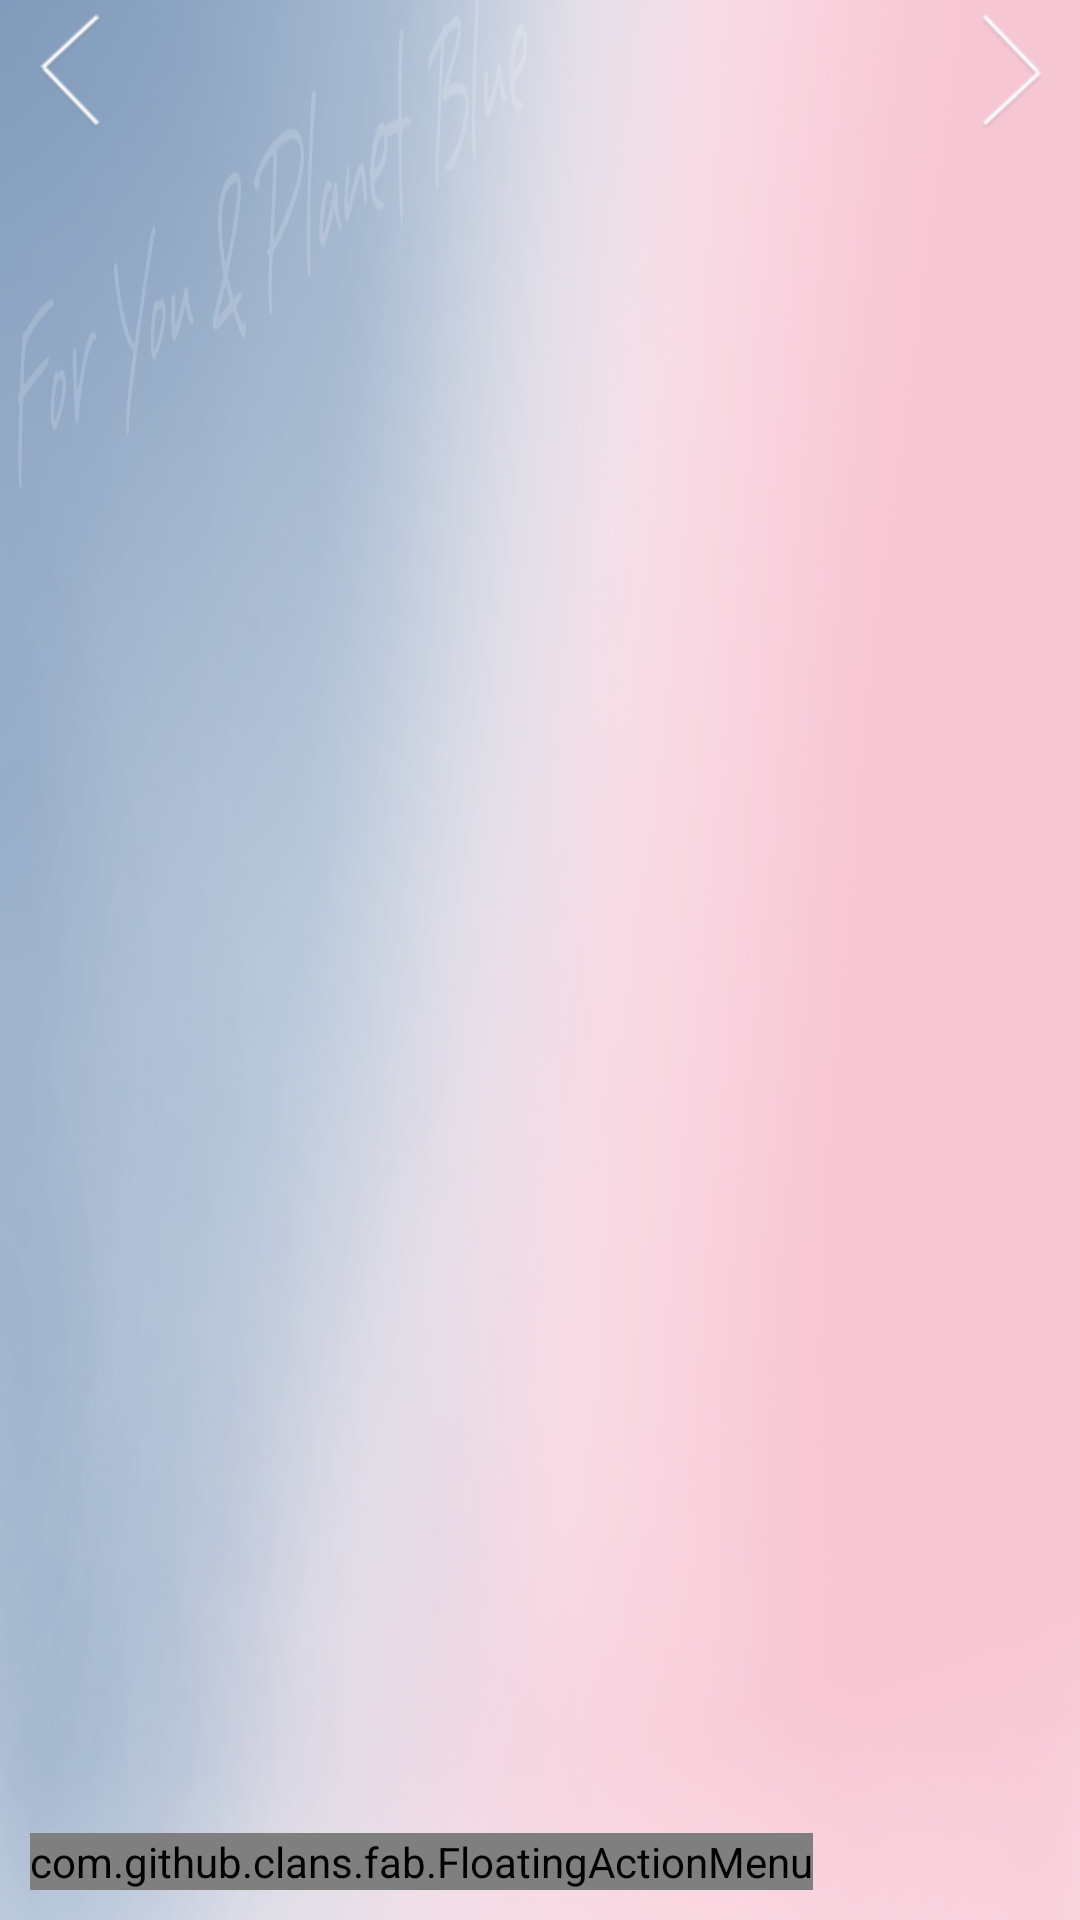

Icon click points for this 1080w x 1920h phone screenshot, format [x,y]:
left: [70,70]
right: [1012,69]
